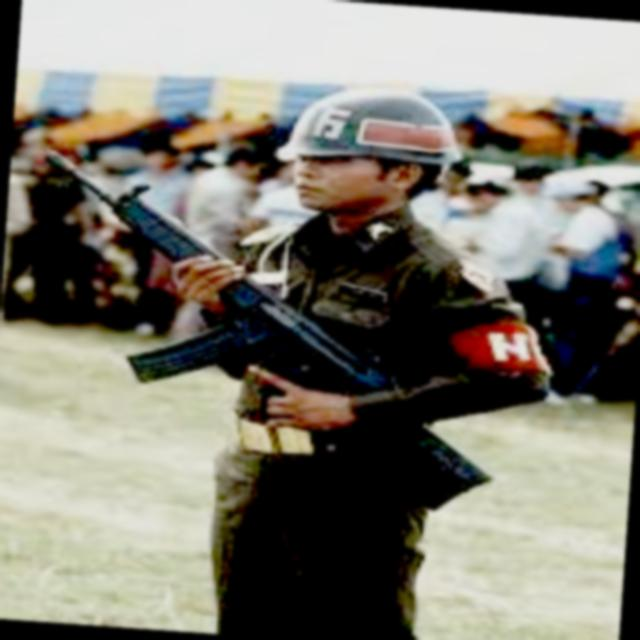m16: (0, 112, 522, 584)
